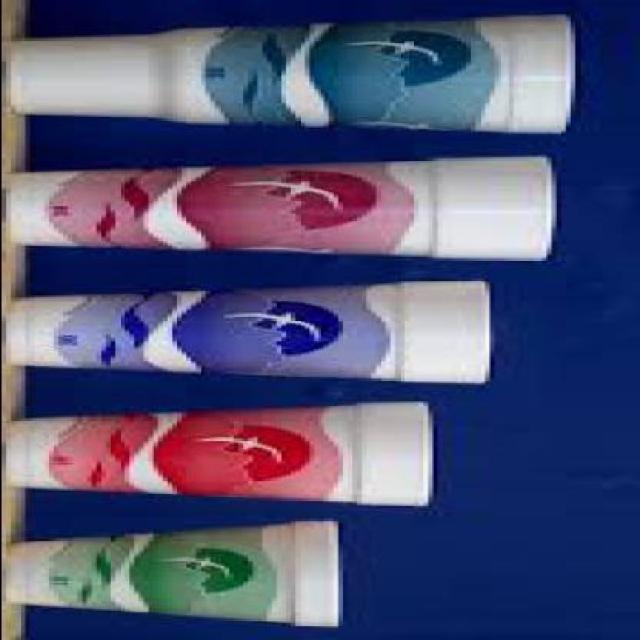PAPER: (4, 18, 578, 138), (6, 157, 560, 265), (4, 282, 493, 387), (6, 402, 437, 510), (5, 522, 337, 626)
